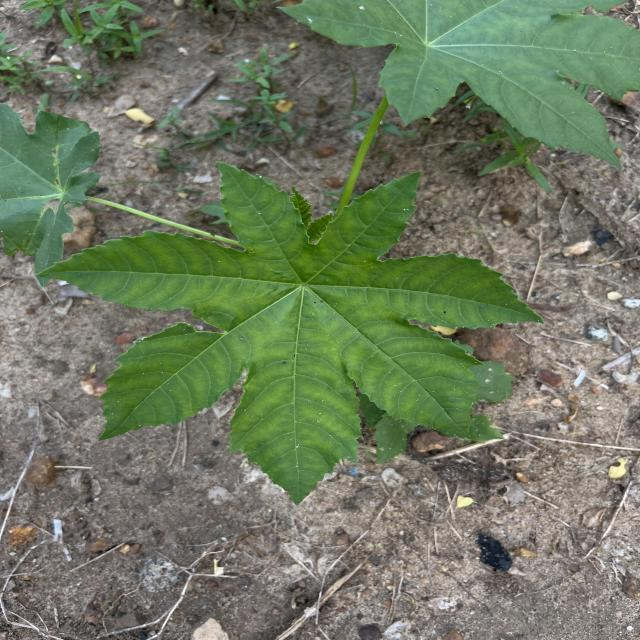Ricinus communis linn: (28, 154, 548, 509)
